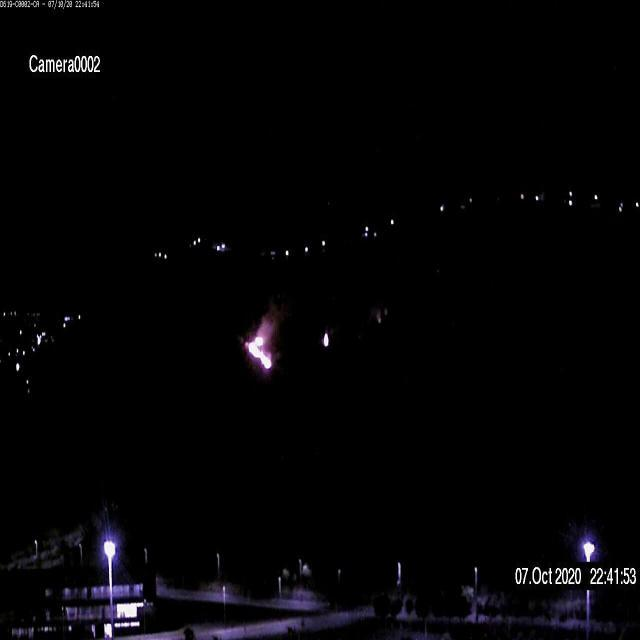Fire: (246, 324, 274, 372)
Smoke: (237, 311, 281, 371)
